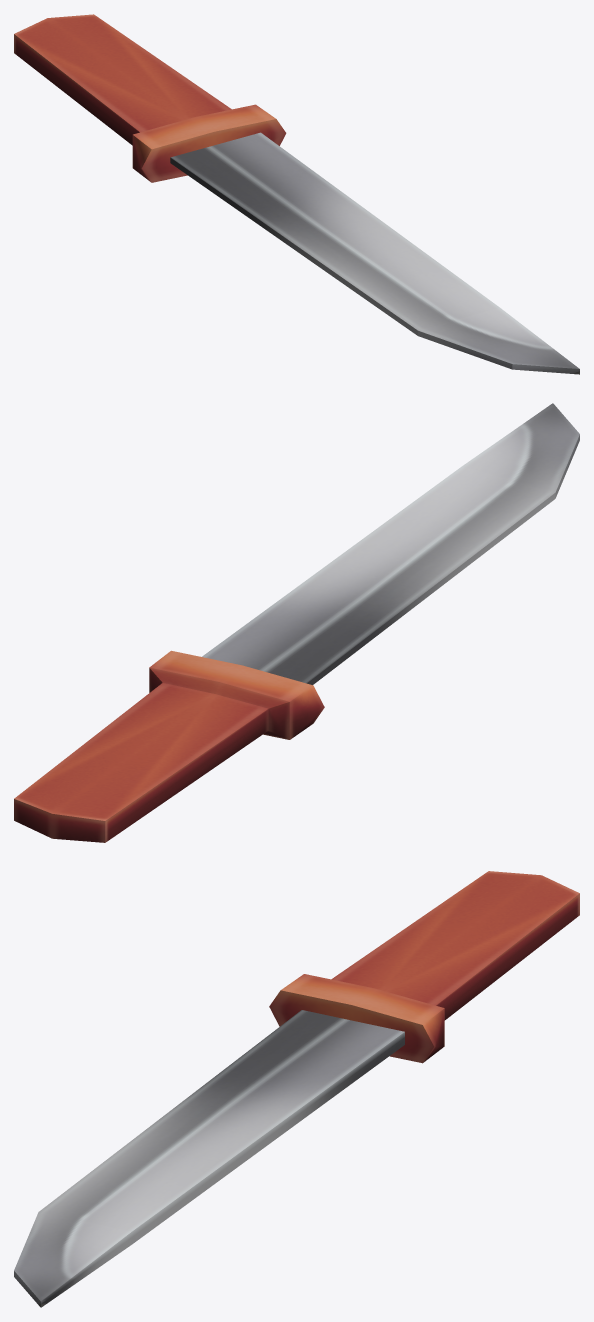
File: SiZheBingFang_01_ShuiGuoDao_01.FBX
The picture shows the model from 3 angles, top to bottom: view 1: azimuth 30°, elevation 25°; view 2: azimuth 150°, elevation 25°; view 3: azimuth 330°, elevation 25°; orthographic projection. The views are drawn at different scales.
Visible parts, largest first — view 1: SiZheBingFang_01_ShuiGuoDao_01; view 2: SiZheBingFang_01_ShuiGuoDao_01; view 3: SiZheBingFang_01_ShuiGuoDao_01.
Boxes of the visible parts, <box> form: SiZheBingFang_01_ShuiGuoDao_01: <box>14,14,579,374</box>; SiZheBingFang_01_ShuiGuoDao_01: <box>14,403,579,842</box>; SiZheBingFang_01_ShuiGuoDao_01: <box>14,871,579,1307</box>.
Size of the model in its own units: 32.1 by 8.1 by 186.
